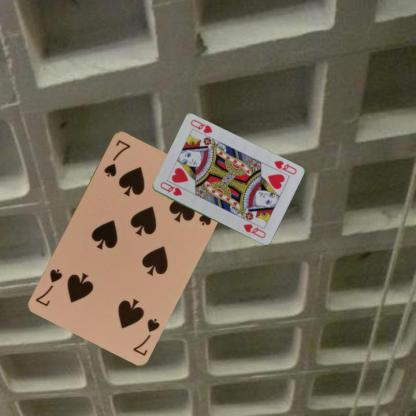7s: (101, 136, 132, 178), (130, 316, 161, 356)
Qh: (271, 158, 298, 176), (157, 179, 183, 197)
